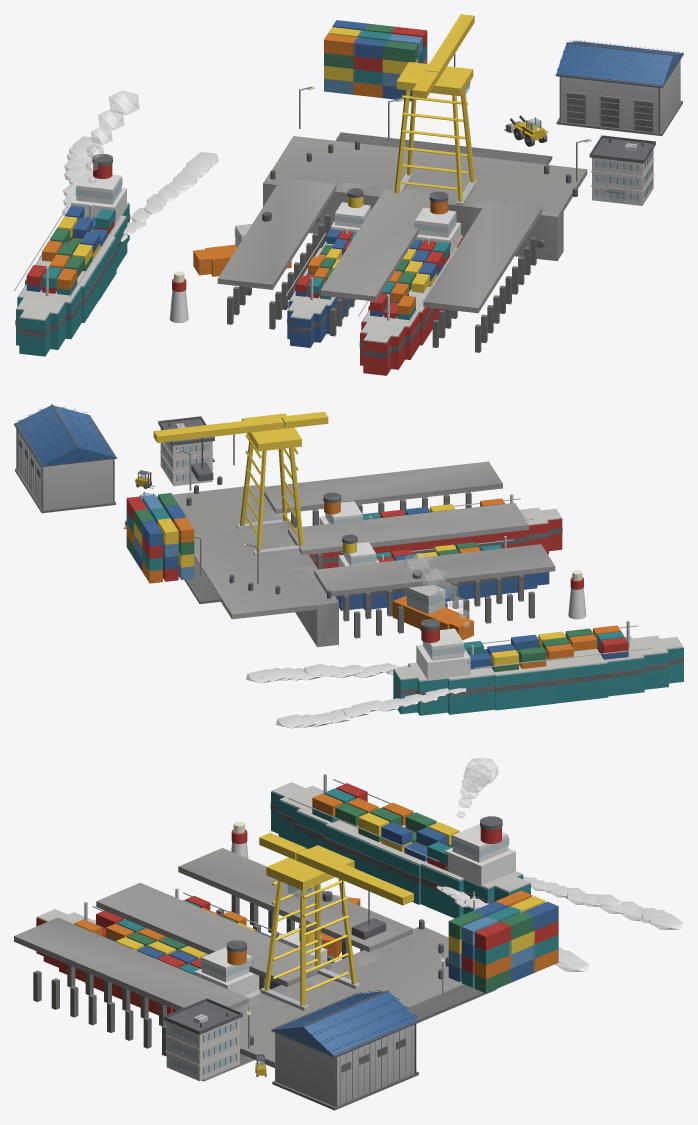
Rendered from Port_P3.fbx.
3 renders of one model, top to bottom at view 1: azimuth 30°, elevation 25°; view 2: azimuth 150°, elevation 25°; view 3: azimuth 270°, elevation 25°, orthographic. The views are drawn at different scales.
Visible parts, largest first — view 1: Port.Apron, Port.ShipOut, Port.Shed, Port.Pier0, Port.Ship0, Port.Pier2, Port.Pier1, Port.Containers, Port.Crane0, Port.Ship1, Port.QuayWall, Port.Control (+5 smaller); view 2: Port.ShipOut, Port.Apron, Port.Pier2, Port.Shed, Port.Crane0, Port.Pier0, Port.Pier1, Port.Containers, Port.Ship0, Port.Ship1, Port.Wake, Port.QuayWall (+4 smaller); view 3: Port.ShipOut, Port.Shed, Port.Pier0, Port.Apron, Port.Crane0, Port.Containers, Port.Pier1, Port.Pier2, Port.Ship0, Port.Control, Port.Wake, Port.QuayWall (+3 smaller).
Part boxes in pixels (x1,y1,x2,y2): Port.Apron: (266,132,587,211); Port.ShipOut: (14,154,130,356); Port.Shed: (555,39,683,135); Port.Pier0: (423,201,542,352); Port.Ship0: (358,191,463,375); Port.Pier2: (217,178,336,329); Port.Pier1: (320,189,430,336); Port.Containers: (324,20,427,101); Port.Crane0: (394,14,477,206); Port.Ship1: (285,188,371,347); Port.QuayWall: (263,174,563,260); Port.Control: (589,135,655,205); Port.ShipOut: (393,619,683,715); Port.Apron: (157,485,327,619); Port.Pier2: (314,544,555,638); Port.Shed: (14,404,116,513); Port.Crane0: (153,411,328,555); Port.Pier0: (264,461,502,527); Port.Pier1: (288,503,528,569); Port.Containers: (126,493,194,583); Port.Ship0: (309,492,562,568); Port.Ship1: (335,534,549,610); Port.Wake: (246,663,466,728); Port.QuayWall: (242,484,338,647); Port.ShipOut: (270,774,530,918); Port.Shed: (271,989,419,1110); Port.Pier0: (14,917,248,1056); Port.Apron: (240,930,496,1067); Port.Crane0: (259,832,413,1010); Port.Containers: (448,890,558,993); Port.Pier1: (96,882,331,989); Port.Pier2: (178,848,413,963); Port.Ship0: (36,901,261,1015); Port.Control: (163,998,242,1081); Port.Wake: (436,877,683,971); Port.QuayWall: (202,927,439,1081).
Size of the model in its own units: 16632 by 4118 by 12903.
